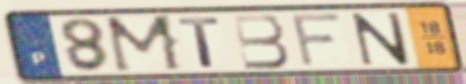8: (58, 16, 113, 74)
B: (230, 12, 294, 71)
F: (288, 11, 345, 69)
M: (102, 13, 187, 75)
N: (349, 11, 413, 67)
T: (175, 15, 224, 69)
